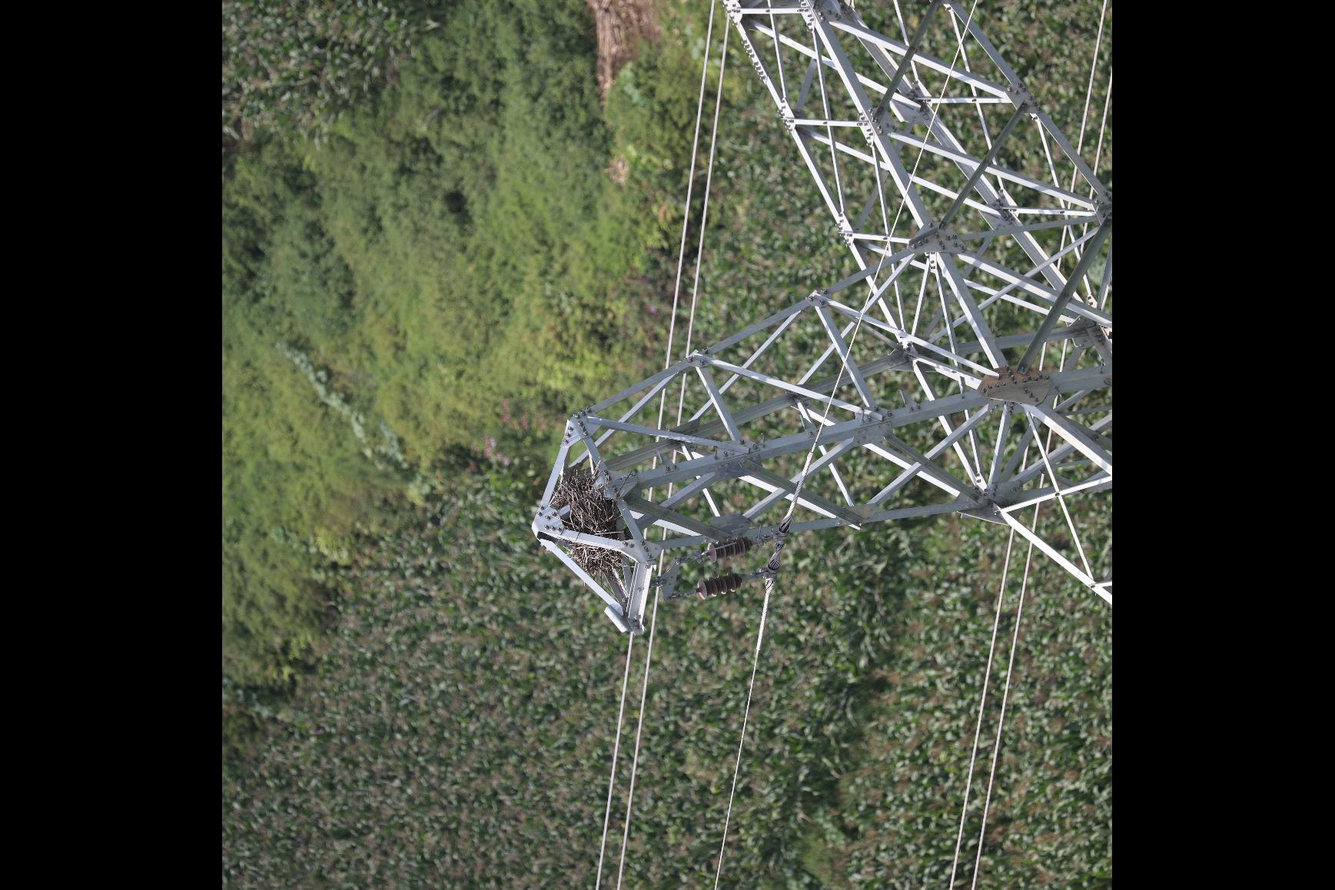nest: (555, 465, 631, 582)
